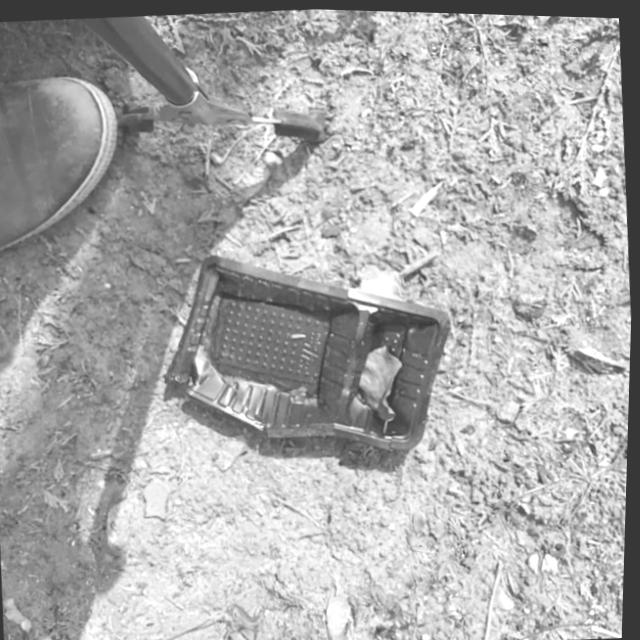Plastic: (150, 234, 465, 471)
